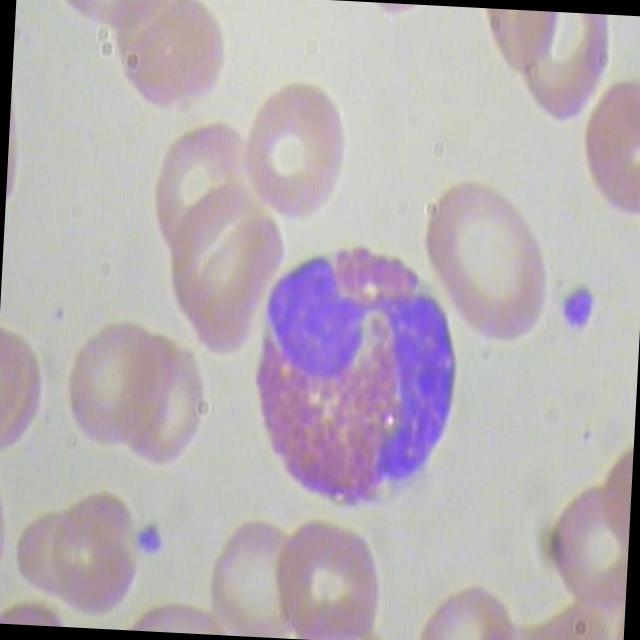Platelets: (548, 274, 602, 340), (128, 516, 166, 562)
RBC: (412, 168, 557, 361), (61, 306, 178, 466), (238, 73, 354, 233), (110, 0, 230, 132), (270, 510, 386, 640), (41, 484, 146, 622), (577, 76, 640, 218)
WBC: (240, 230, 474, 528)
